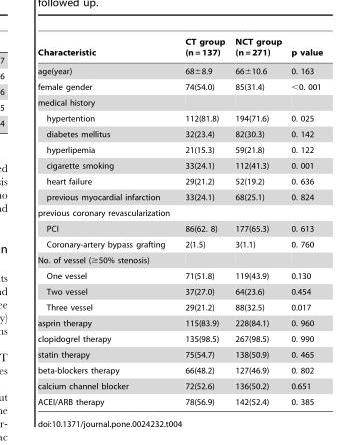table: (37, 37, 322, 406)
table column: (37, 37, 176, 406), (229, 37, 285, 406), (176, 37, 229, 406), (285, 37, 322, 406)
table column header: (37, 37, 322, 61)
table projected row header: (37, 94, 322, 110), (37, 204, 322, 220), (37, 252, 322, 267)
table row: (37, 37, 322, 61), (37, 61, 322, 78), (37, 78, 322, 94), (37, 94, 322, 110), (37, 110, 322, 126), (37, 141, 322, 157), (37, 157, 322, 173), (37, 173, 322, 189), (37, 204, 322, 220), (37, 220, 322, 236), (37, 236, 322, 252), (37, 267, 322, 283), (37, 283, 322, 299), (37, 299, 322, 315), (37, 330, 322, 346), (37, 346, 322, 362), (37, 362, 322, 378), (37, 126, 322, 141), (37, 189, 322, 204), (37, 252, 322, 267), (37, 315, 322, 330), (37, 378, 322, 393), (37, 393, 322, 406)
